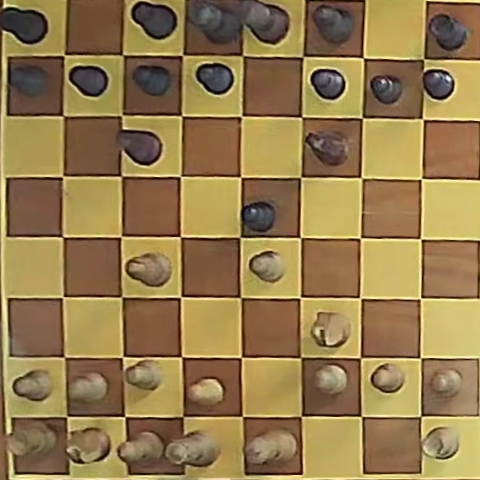black-bishop: (132, 2, 178, 40), (312, 4, 354, 44)
black-king: (239, 1, 289, 44)
black-knight: (118, 130, 162, 165), (305, 131, 349, 165)
black-pawn: (9, 64, 49, 97), (69, 65, 109, 97), (133, 65, 172, 96), (195, 63, 233, 94), (310, 69, 346, 100), (422, 69, 455, 100), (242, 201, 276, 231), (370, 74, 403, 104)
black-queen: (188, 1, 245, 44)
black-rook: (0, 6, 48, 45), (427, 13, 471, 52)
white-bishop: (118, 431, 165, 464), (125, 252, 170, 286)
white-king: (245, 428, 298, 465)
white-knight: (66, 427, 111, 463), (310, 312, 350, 347)
white-pawn: (13, 369, 53, 401), (69, 372, 108, 403), (126, 359, 163, 390), (249, 251, 285, 282), (371, 363, 405, 393), (187, 378, 223, 406), (314, 365, 347, 395), (429, 368, 463, 397)
white-queen: (163, 430, 220, 467)
white-rook: (7, 421, 57, 458), (423, 427, 460, 459)
